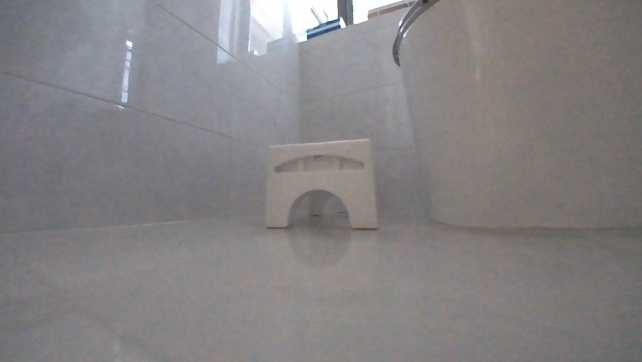plastic_stool: (259, 137, 384, 232)
toilet: (388, 0, 641, 235)
